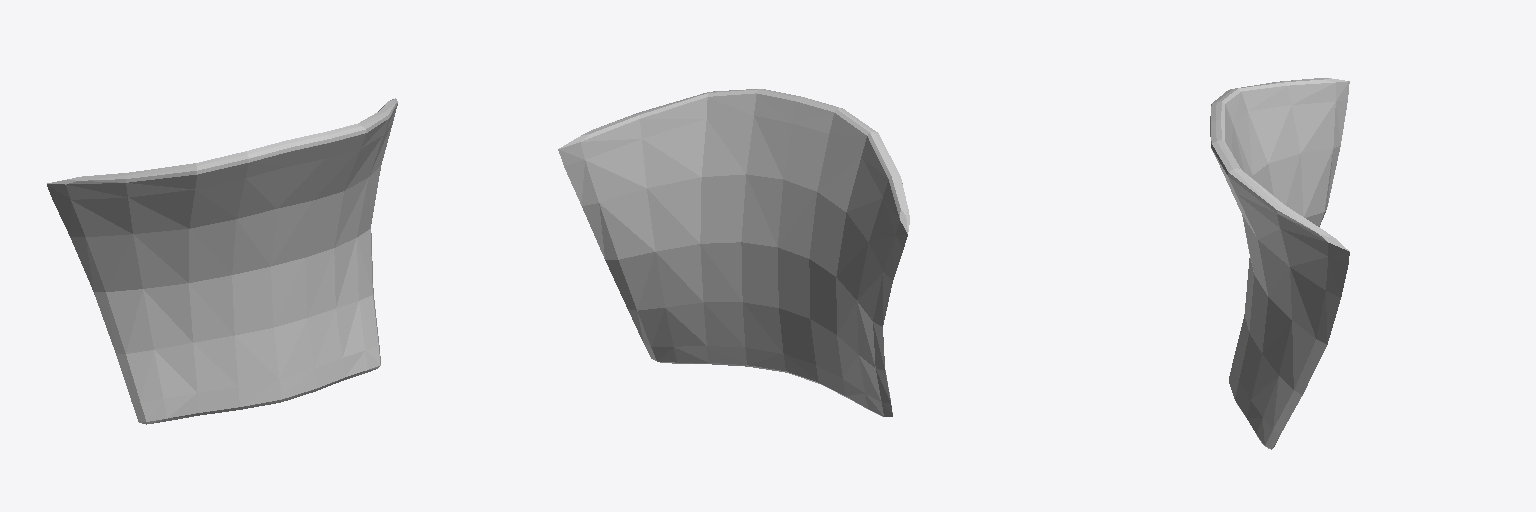
Rendered from Connective.Ligaments.Capsula_articularis_membrana_fibrosa_R.203.obj.
3 renders of one model, left to right at view 1: azimuth 30°, elevation 25°; view 2: azimuth 150°, elevation 25°; view 3: azimuth 270°, elevation 25°, orthographic.
Visible parts, largest first — view 1: Connective:Ligaments:Capsula_articularis_membrana_fibrosa_R.203_; view 2: Connective:Ligaments:Capsula_articularis_membrana_fibrosa_R.203_; view 3: Connective:Ligaments:Capsula_articularis_membrana_fibrosa_R.203_.
Boxes of the visible parts, box(x1,y1,x2,y2) form: Connective:Ligaments:Capsula_articularis_membrana_fibrosa_R.203_: box(47, 98, 397, 424); Connective:Ligaments:Capsula_articularis_membrana_fibrosa_R.203_: box(558, 89, 909, 416); Connective:Ligaments:Capsula_articularis_membrana_fibrosa_R.203_: box(1210, 78, 1349, 449).
Size of the model in its own units: 0.1792 by 0.134 by 0.0621.